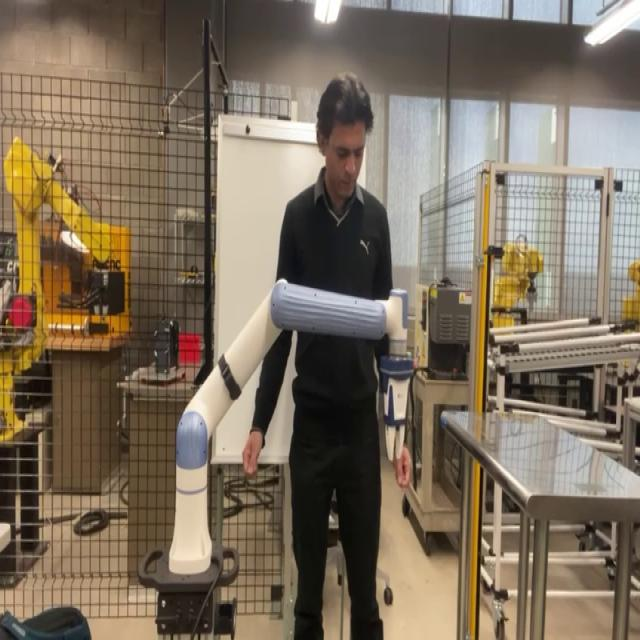robot: (137, 275, 413, 637)
